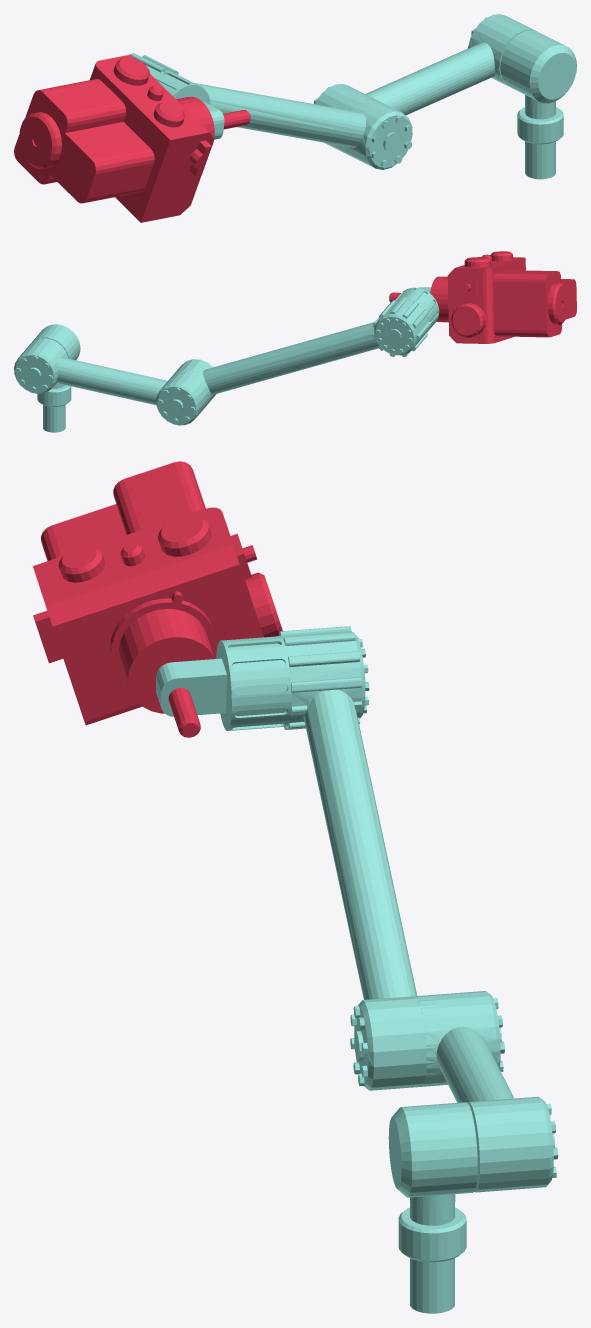
The model's file is Mars6Mars_Rover__Curiosity_1_0__-_18_Drill_joint-1.001.dae.
The picture shows the model from 3 angles, top to bottom: view 1: azimuth 30°, elevation 25°; view 2: azimuth 150°, elevation 25°; view 3: azimuth 270°, elevation 25°; orthographic projection. The views are drawn at different scales.
Visible parts, largest first — view 1: tmp_export_Mars6Mars_Rover__Curiosity_1_0__-_18_Drill_joint-; view 2: tmp_export_Mars6Mars_Rover__Curiosity_1_0__-_18_Drill_joint-; view 3: tmp_export_Mars6Mars_Rover__Curiosity_1_0__-_18_Drill_joint-.
Boxes of the visible parts, <box> form: tmp_export_Mars6Mars_Rover__Curiosity_1_0__-_18_Drill_joint-: <box>14,14,576,222</box>; tmp_export_Mars6Mars_Rover__Curiosity_1_0__-_18_Drill_joint-: <box>14,251,576,432</box>; tmp_export_Mars6Mars_Rover__Curiosity_1_0__-_18_Drill_joint-: <box>33,461,558,1313</box>.
Size of the model in its own units: 3.2 by 1.57 by 1.42.
